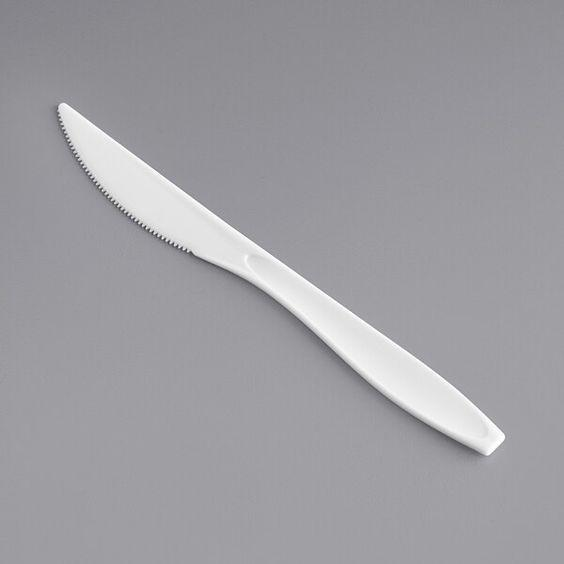PS: (59, 98, 504, 464)
